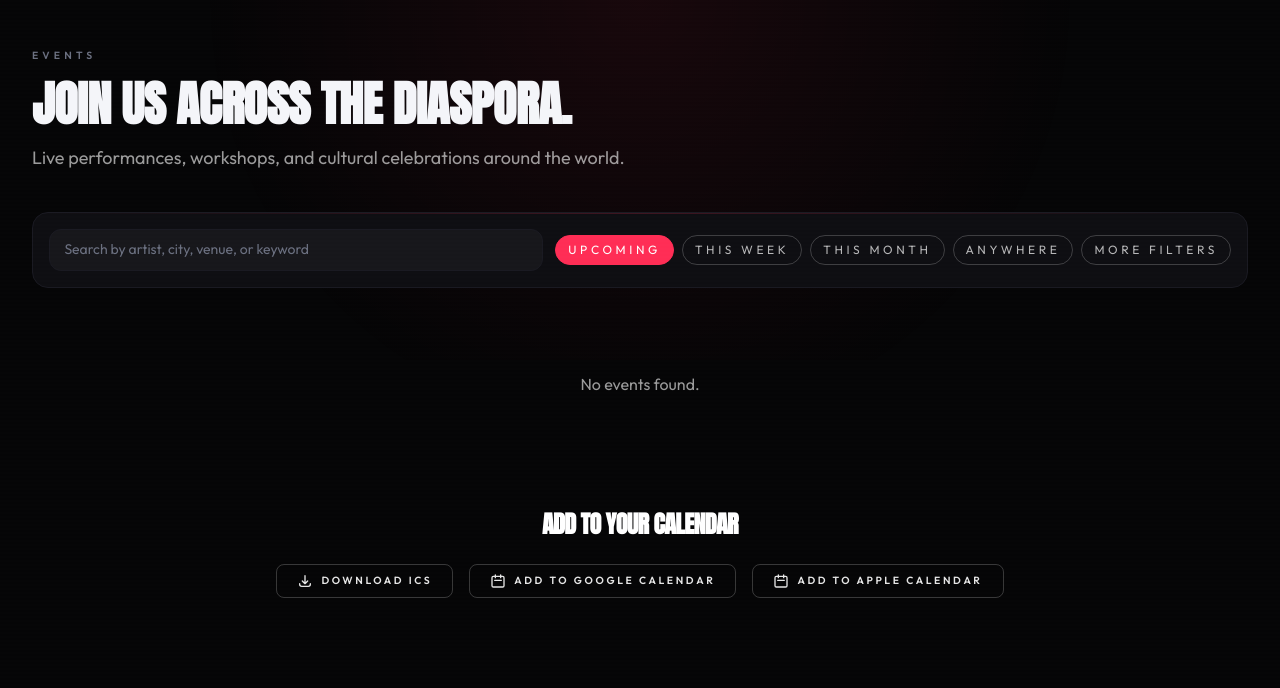
Events Page - Accessibility and Filters › More Filters Toggle › should toggle aria-expanded when clicking More filters
The image size is (1280, 688).
expect the button "Upcoming" is shown: met, box top-left (555, 235), bottom-right (674, 265)
# Click to open
Click the button "More filters" at x=1156, y=250, box top-left (1081, 235), bottom-right (1231, 265)
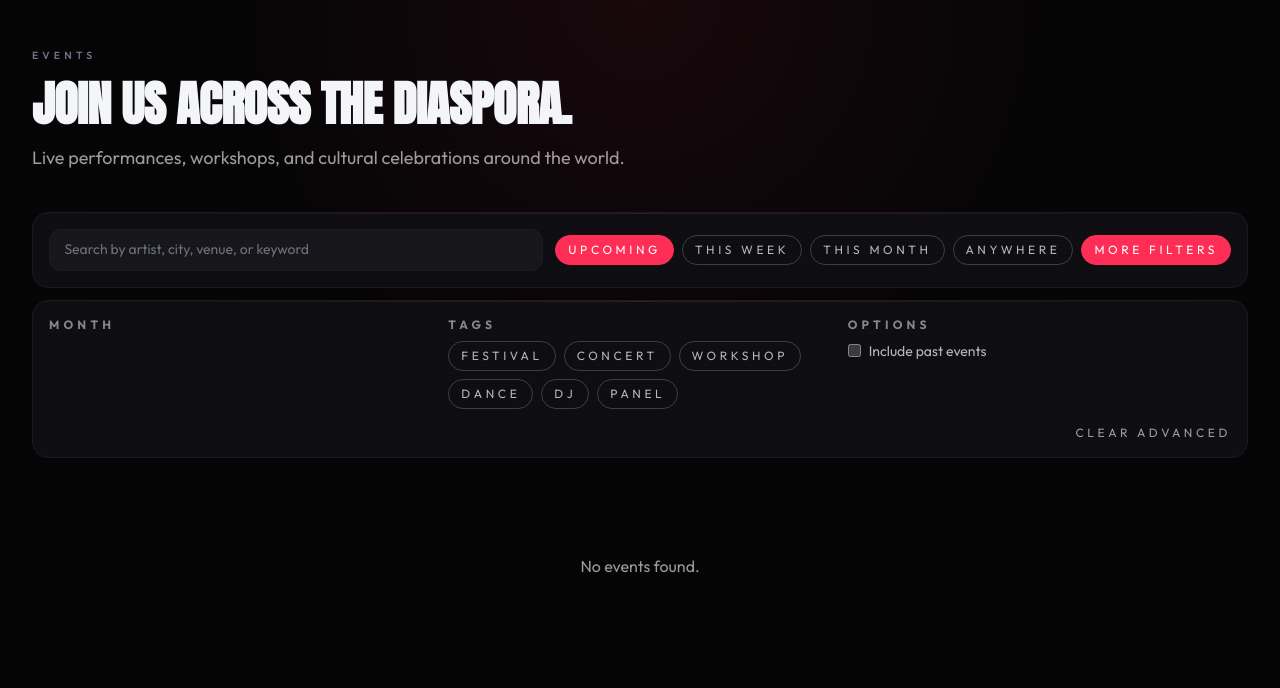
expect the button "More filters" is expanded: met, box top-left (1081, 235), bottom-right (1231, 265)
